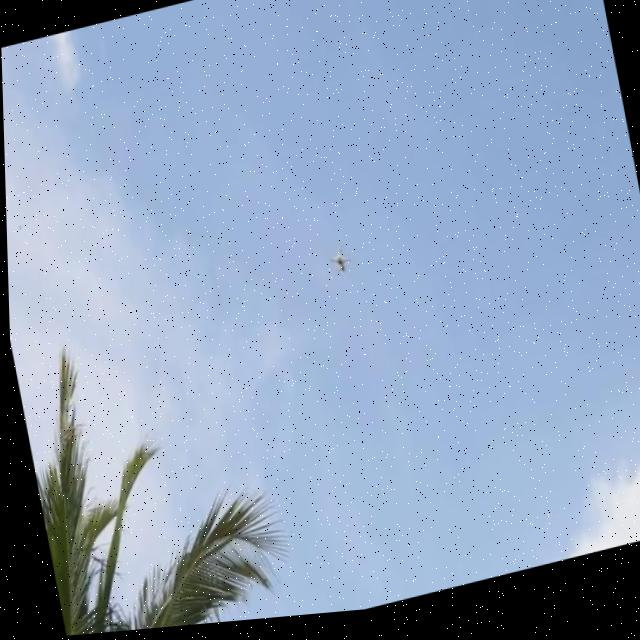drones: (325, 250, 349, 287)
